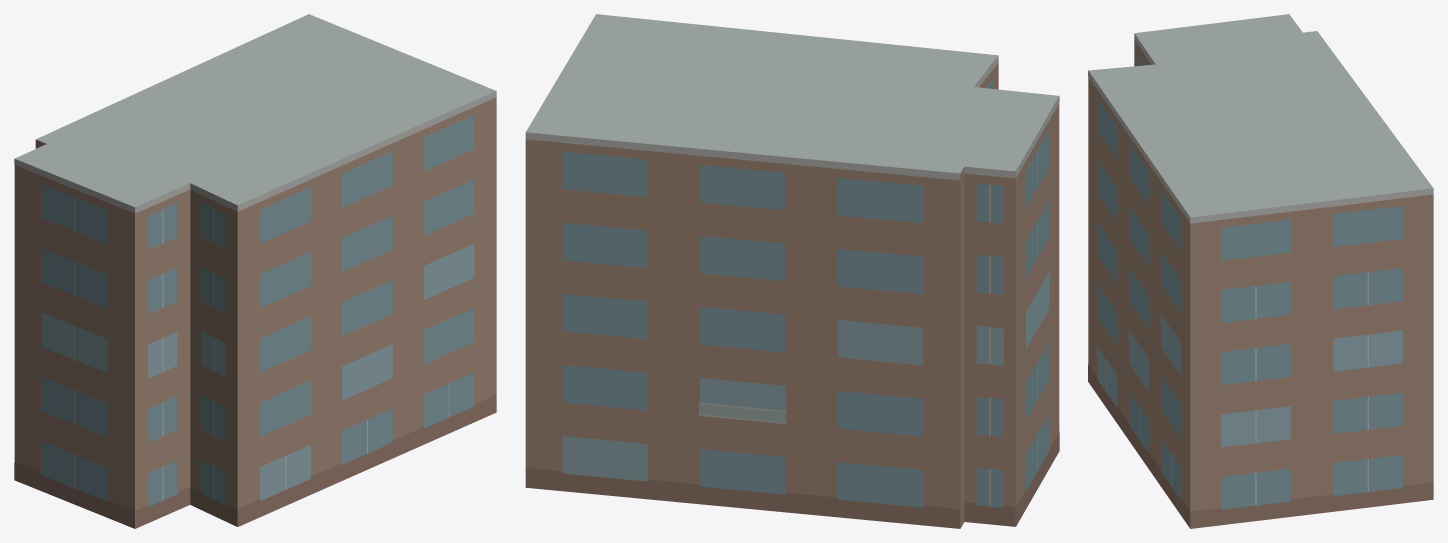
File: survey-upis-32622007.glb
3 renders of one model, left to right at view 1: azimuth 30°, elevation 25°; view 2: azimuth 150°, elevation 25°; view 3: azimuth 270°, elevation 25°, orthographic. The views are drawn at different scales.
Visible parts, largest first — view 1: survey-upis-32622007.tmp; view 2: survey-upis-32622007.tmp; view 3: survey-upis-32622007.tmp.
Boxes of the visible parts, left/top/right/bottom form: survey-upis-32622007.tmp: left=14, top=14, right=496, bottom=528; survey-upis-32622007.tmp: left=525, top=14, right=1059, bottom=528; survey-upis-32622007.tmp: left=1088, top=14, right=1433, bottom=528.
Bounding box in the file's own units: 17.47 × 12.45 × 12.53.
